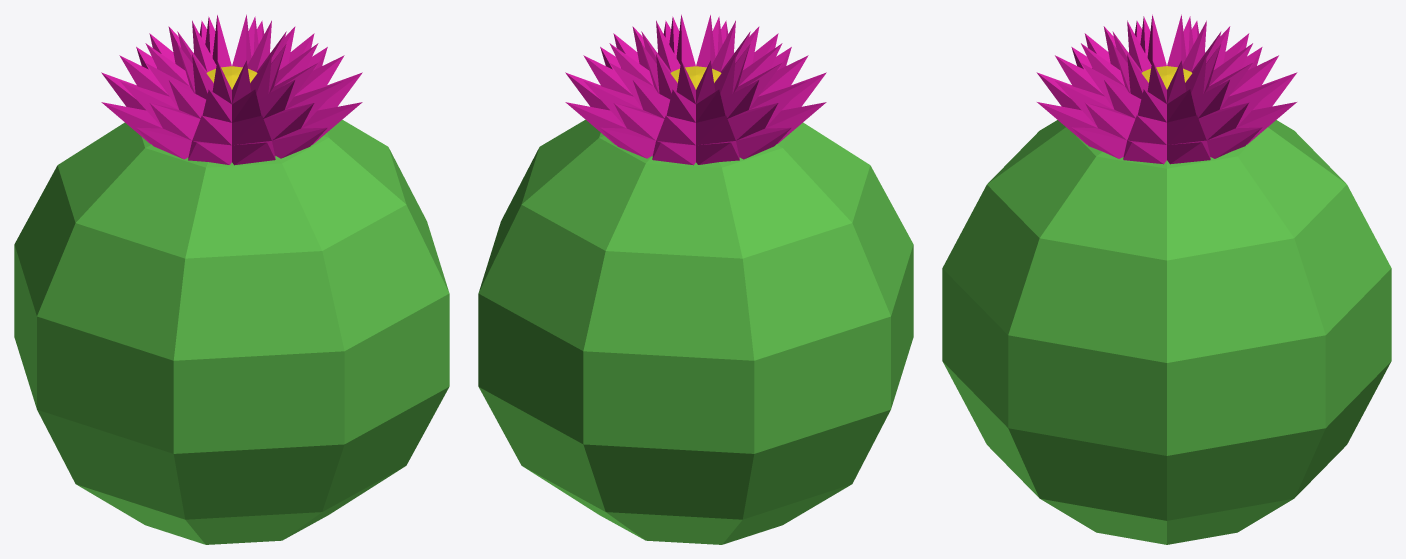
Rendered from Cactus_Ball.fbx.
3 renders of one model, left to right at view 1: azimuth 30°, elevation 25°; view 2: azimuth 150°, elevation 25°; view 3: azimuth 270°, elevation 25°, orthographic.
Parts seen in each view (by area): view 1: Cactus_Ball; view 2: Cactus_Ball; view 3: Cactus_Ball.
Boxes of the visible parts, box(x1,y1,x2,y2) form: Cactus_Ball: box(14, 14, 449, 544); Cactus_Ball: box(478, 14, 913, 544); Cactus_Ball: box(942, 14, 1391, 544).
Bounding box in the file's own units: 75.76 × 86.67 × 75.76.
